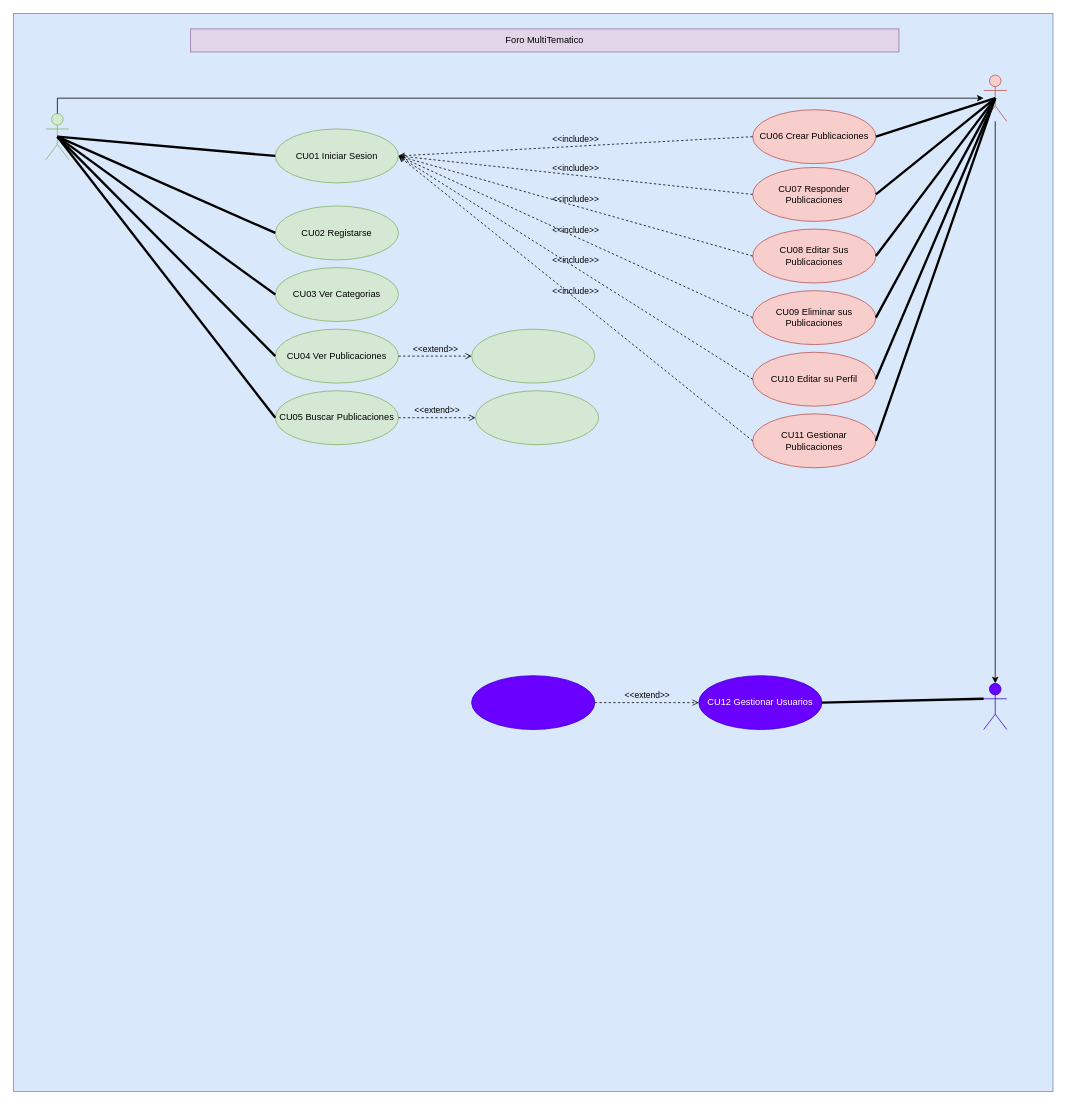
The diagram is 1066 pixels wide and 1105 high, and some of its shapes have lost their labels. The shapes that lost their labels are listed below. From the top down, each one's centre as x and y in pixels, then its label:
At (x=995, y=97): "Usuario Registrado".
At (x=57, y=136): "Usuario Visitante".
At (x=533, y=355): "Reportar Publicaciones".
At (x=537, y=417): "Filtar Por Categoria".
At (x=533, y=702): "Eliminar Usuarios".
At (x=995, y=706): "Usuario Administrador".
